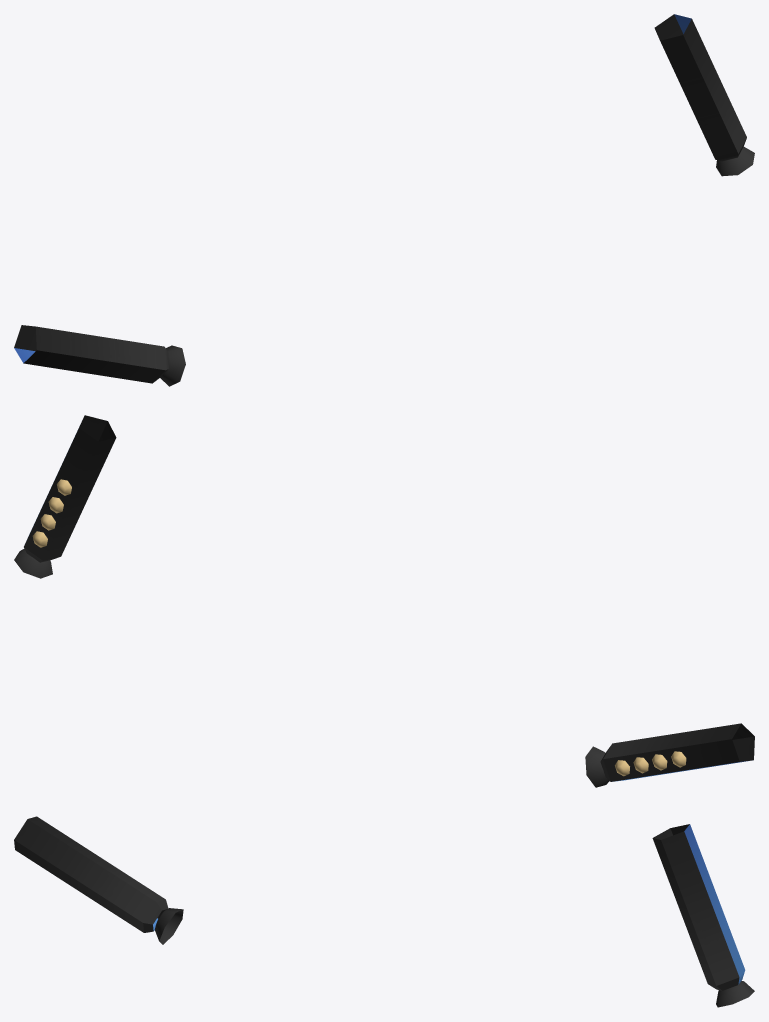
Rendered from Tui.FBX.
3 views of the same model, one above another, from view 1: azimuth 30°, elevation 25°; view 2: azimuth 150°, elevation 25°; view 3: azimuth 330°, elevation 25° (orthographic).
Visible parts, largest first — view 1: Object025; view 2: Object025; view 3: Object025.
Part boxes in pixels (box(x1,y1,x2,y2)): Object025: box(14, 14, 754, 386); Object025: box(14, 415, 754, 787); Object025: box(14, 816, 754, 1007).
Size of the model in its own units: 20.63 by 6.5 by 1.07.
1 material, 1 textured.
